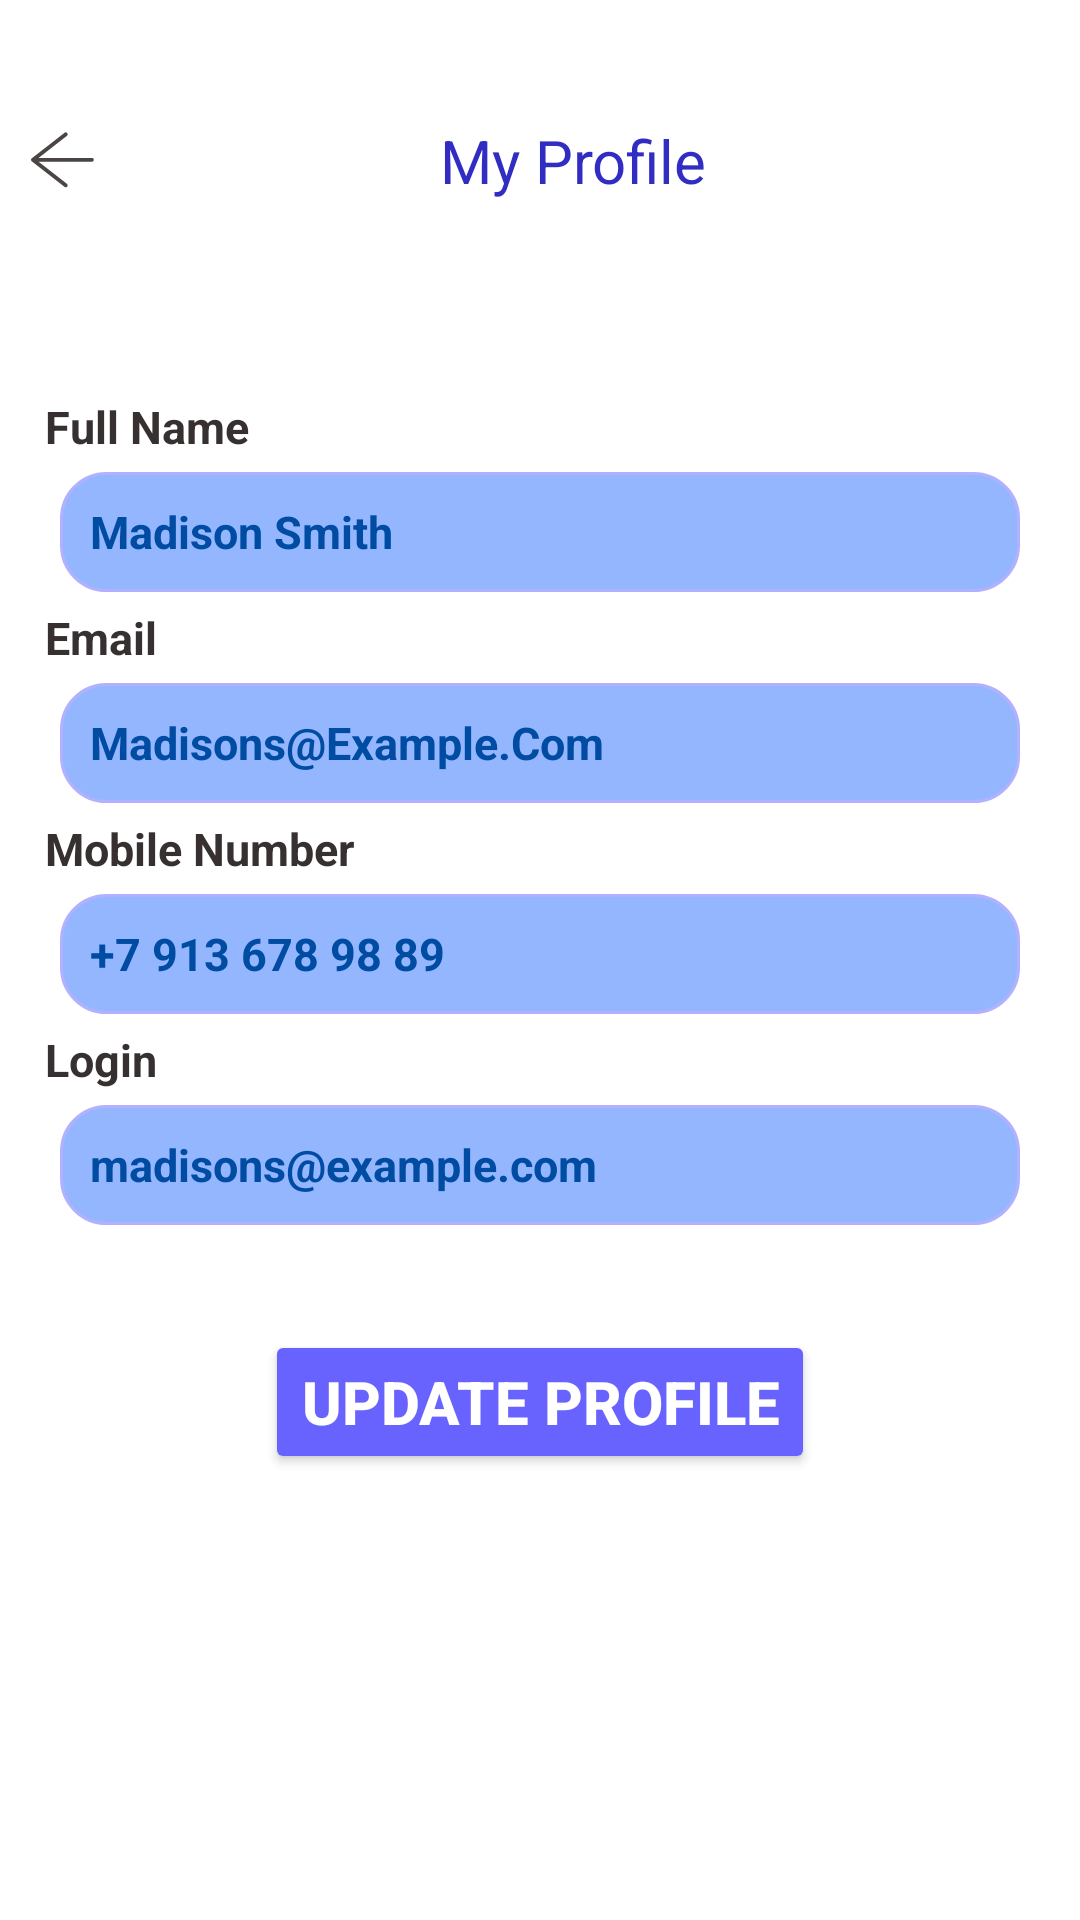

Named icons in this screenshot (1080x1920) and their bounding boxes, bbox=[x1, y1, x2, y2]:
strelka: bbox=[31, 132, 94, 188]
